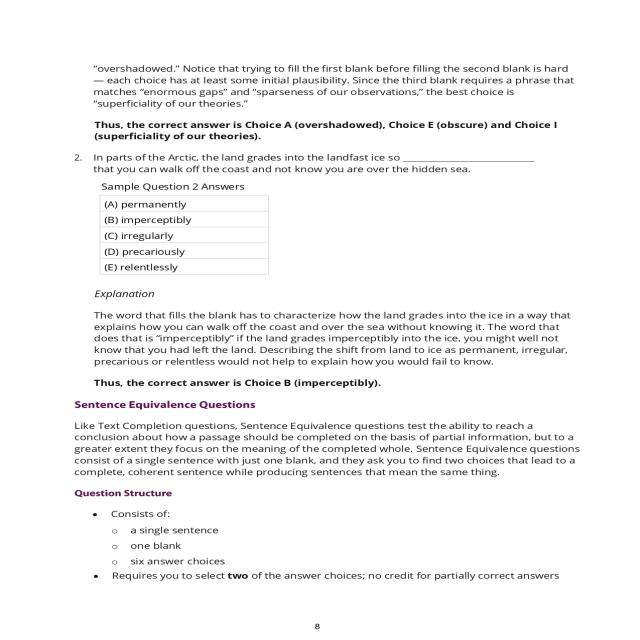Answer_Block: (56, 180, 594, 284)
Description: (56, 282, 594, 390), (56, 42, 594, 142)
Question_Answer_Block: (56, 46, 594, 584)
Question_Block: (56, 144, 594, 282)
